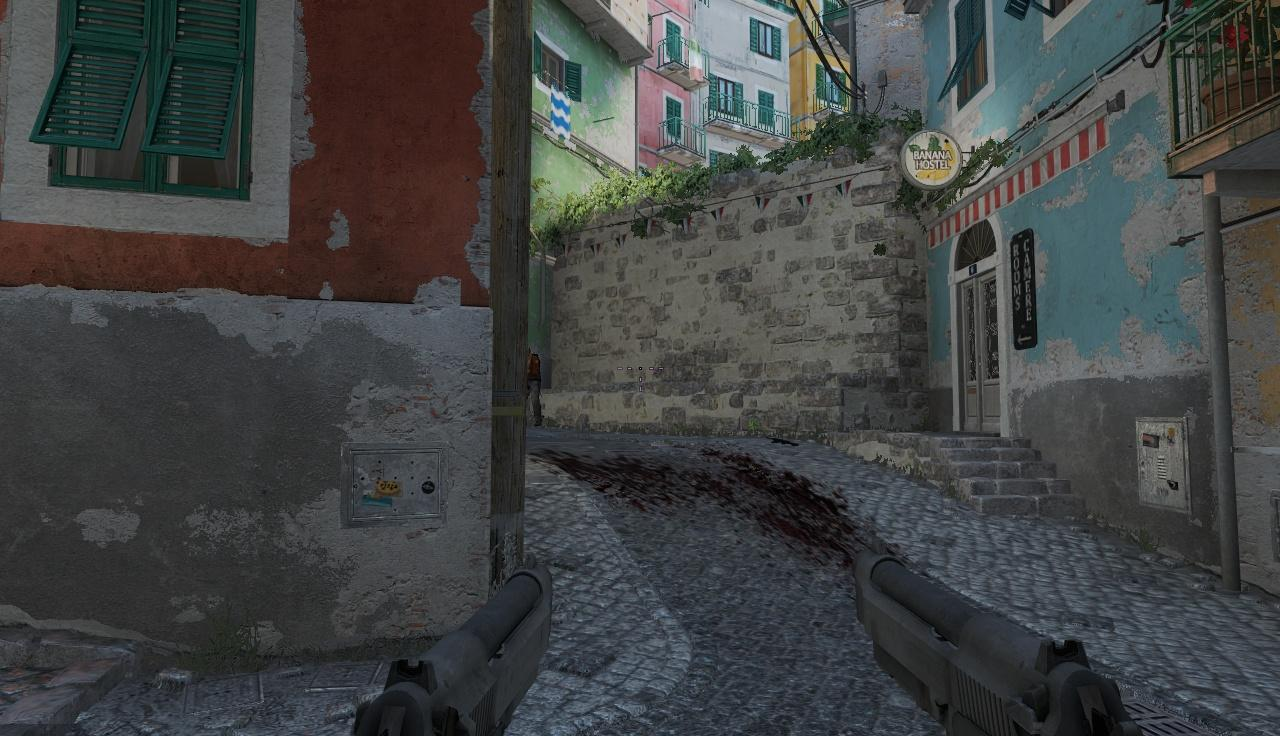pistol: (836, 546, 1140, 736), (351, 549, 574, 736)
